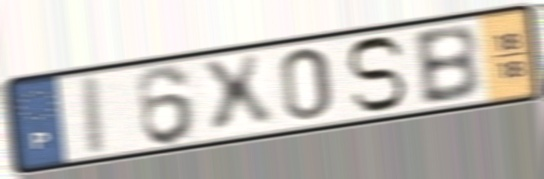0: (278, 44, 337, 125)
6: (135, 62, 199, 149)
B: (409, 22, 484, 109)
I: (82, 70, 110, 160)
S: (342, 33, 409, 115)
X: (195, 51, 279, 139)
